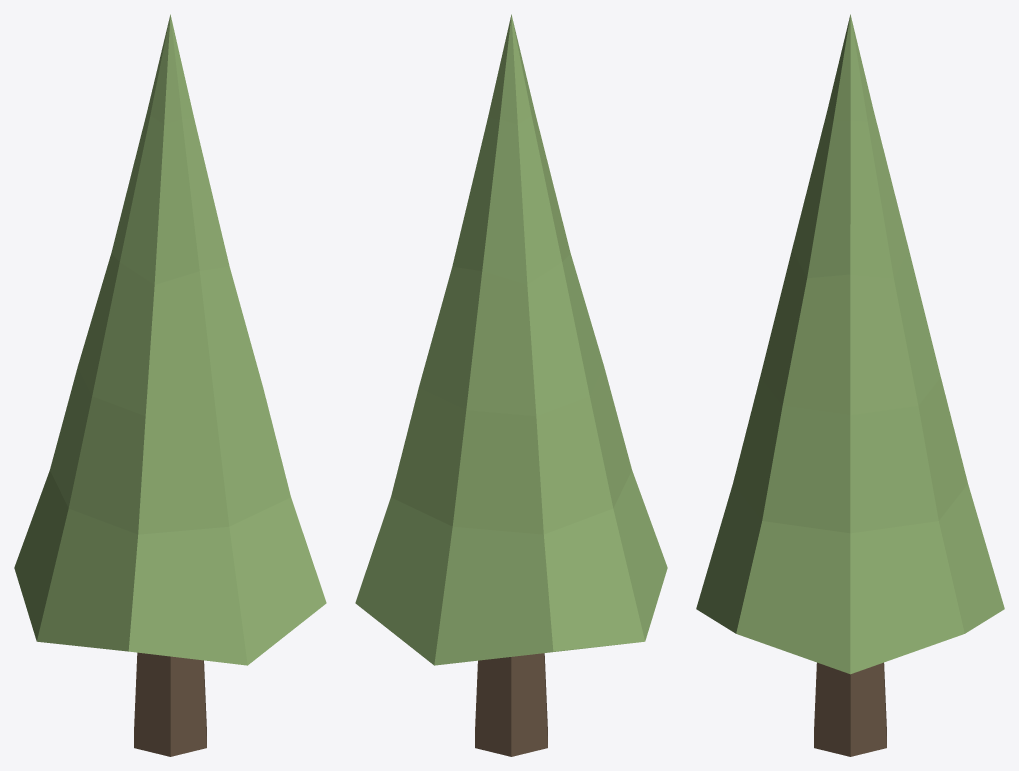
File: Tree 07.fbx
The picture shows the model from 3 angles, left to right: view 1: azimuth 30°, elevation 25°; view 2: azimuth 150°, elevation 25°; view 3: azimuth 270°, elevation 25°; orthographic projection.
Parts seen in each view (by area): view 1: group266_pCylinder347; view 2: group266_pCylinder347; view 3: group266_pCylinder347.
Part boxes in pixels (bbox=[...]): group266_pCylinder347: bbox=[14, 14, 326, 756]; group266_pCylinder347: bbox=[355, 14, 667, 756]; group266_pCylinder347: bbox=[696, 14, 1004, 756].
Bounding box in the file's own units: 1.82 × 4.72 × 1.82.
